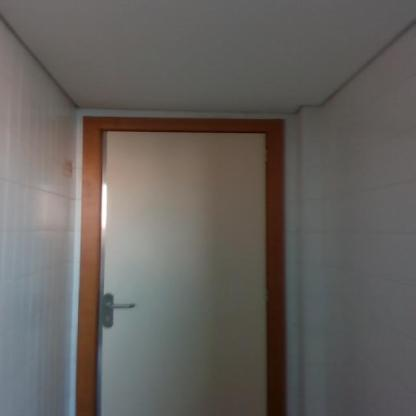door: (81, 114, 288, 416)
